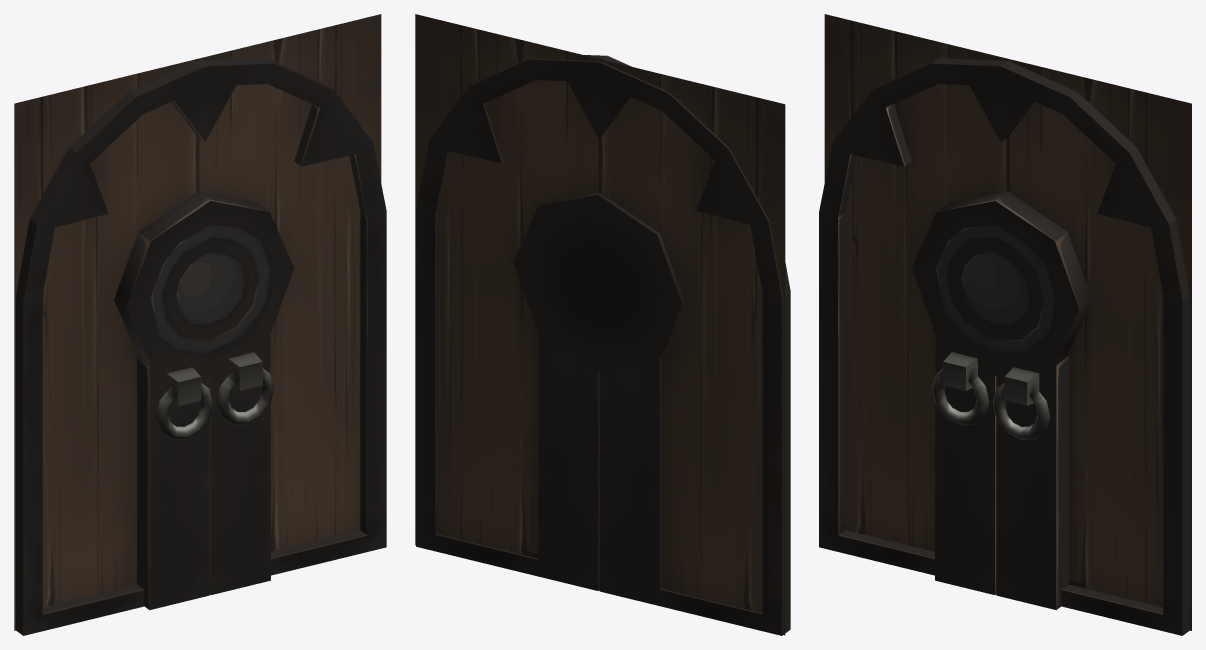
Rendered from Dg_01_door_01.FBX.
3 views of the same model, side by side, from view 1: azimuth 30°, elevation 25°; view 2: azimuth 150°, elevation 25°; view 3: azimuth 330°, elevation 25° (orthographic).
Visible parts, largest first — view 1: Dg_01_door_01; view 2: Dg_01_door_01; view 3: Dg_01_door_01.
Part boxes in pixels (x1,y1,x2,y2): Dg_01_door_01: [14, 14, 386, 635]; Dg_01_door_01: [415, 14, 790, 635]; Dg_01_door_01: [819, 14, 1191, 635].
Size of the model in its own units: 3.06 by 4.21 by 0.367.
